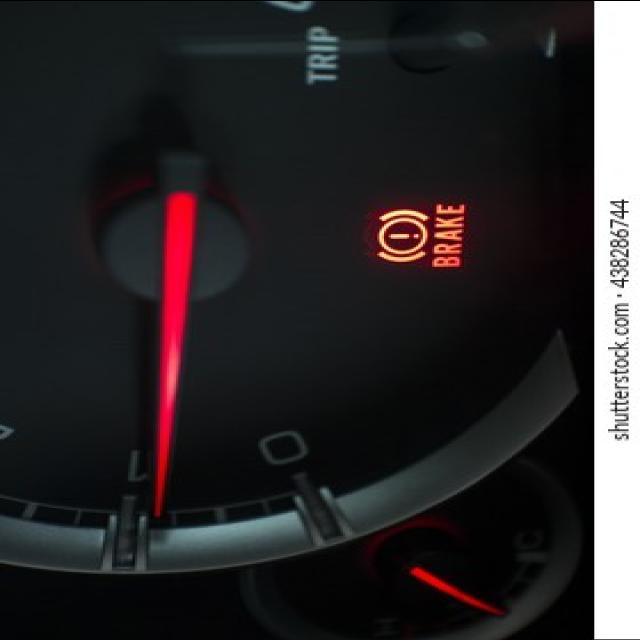Braking System Issue: (371, 198, 468, 270)
